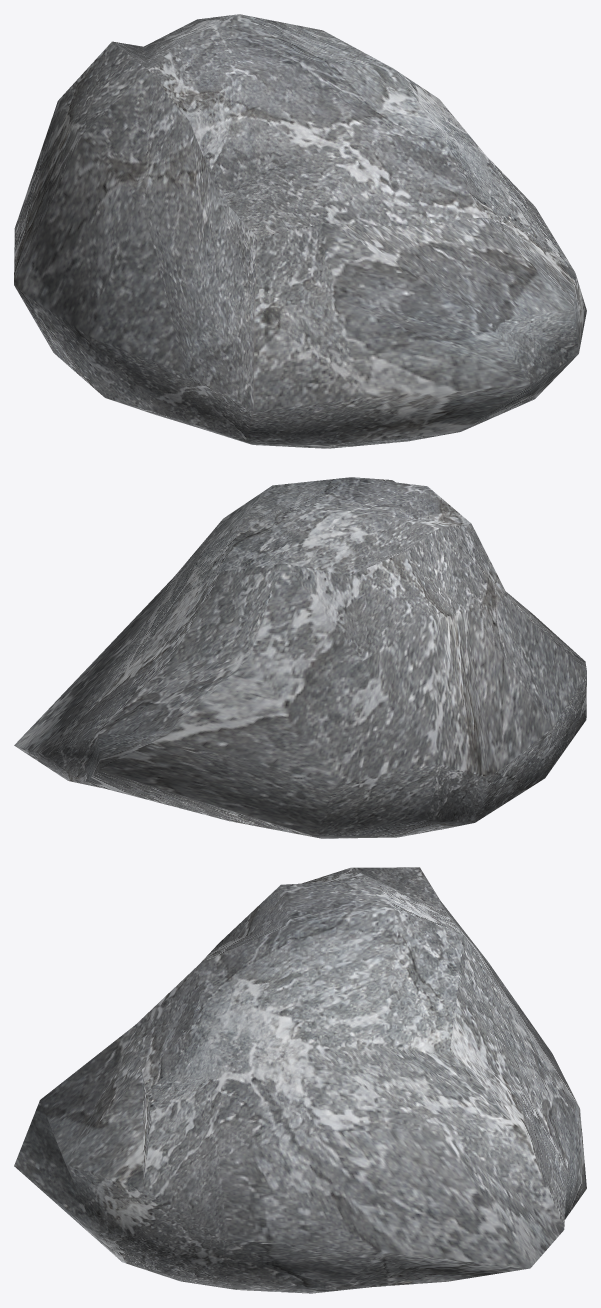
Rendered from GroundRock1.fbx.
The picture shows the model from 3 angles, top to bottom: view 1: azimuth 30°, elevation 25°; view 2: azimuth 150°, elevation 25°; view 3: azimuth 270°, elevation 25°; orthographic projection. The views are drawn at different scales.
Parts seen in each view (by area): view 1: Rock1; view 2: Rock1; view 3: Rock1.
Boxes of the visible parts, x1,y1,x2,y2 form: Rock1: (14,14,586,448); Rock1: (14,477,586,838); Rock1: (14,867,586,1293).
Size of the model in its own units: 339 by 242 by 392.
1 material, 1 textured.
